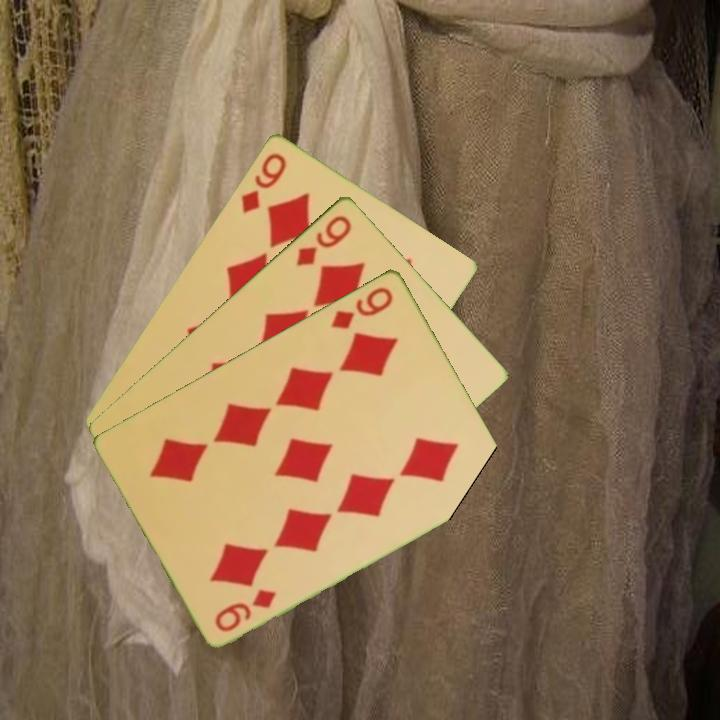9d: (292, 211, 355, 269), (237, 148, 289, 216), (211, 584, 280, 635), (327, 282, 396, 332)
